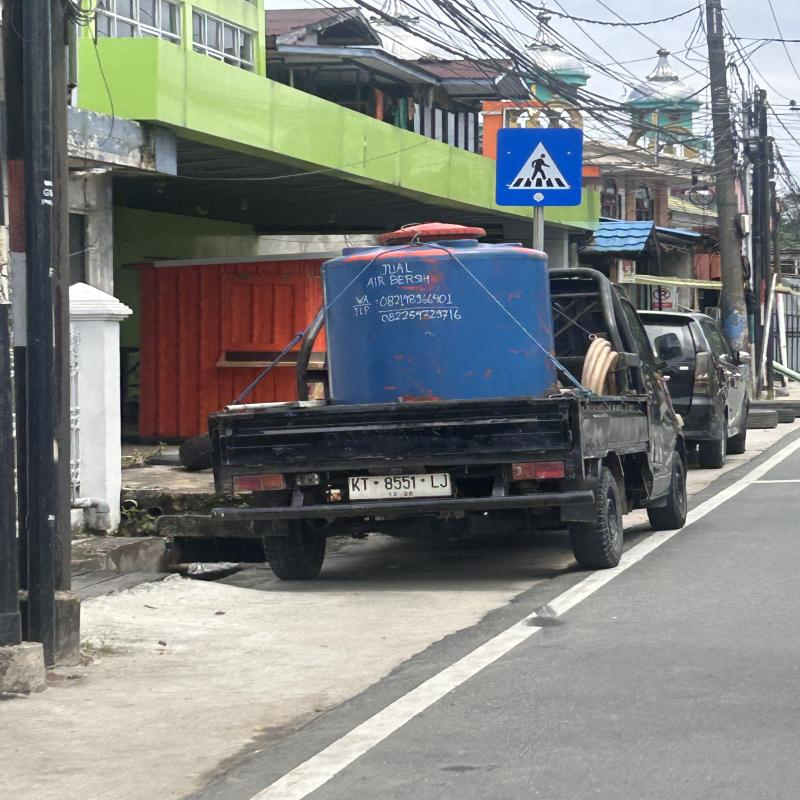license plate on a car: (348, 473, 452, 501)
